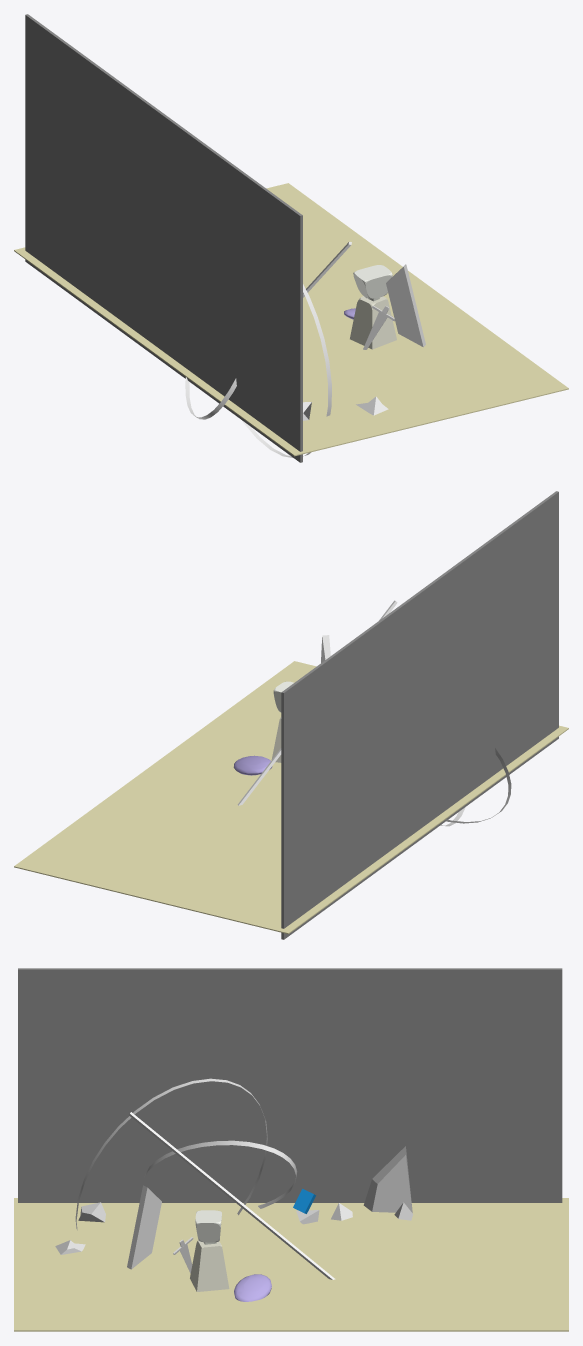
The picture shows the model from 3 angles, top to bottom: view 1: azimuth 30°, elevation 25°; view 2: azimuth 150°, elevation 25°; view 3: azimuth 270°, elevation 25°; orthographic projection.
Parts seen in each view (by area): view 1: 立方体, 立方体.003, Cube.003, Cube.001, Cube, 曲面柱.001; view 2: 立方体, 立方体.003, 融球; view 3: 立方体, 立方体.003, 立方体.008, Cube.003, Cube.001, 立方体.002, 曲面柱.001, 曲面柱, 融球, Cube.
Part boxes in pixels (x1,y1,x2,y2): 立方体: (25,14,302,462); 立方体.003: (14,183,568,456); Cube.003: (386,264,425,347); Cube.001: (350,296,396,349); Cube: (353,265,392,299); 曲面柱.001: (242,284,331,457); 立方体: (281,491,558,939); 立方体.003: (14,661,568,934); 融球: (233,755,272,775); 立方体: (18,968,562,1202); 立方体.003: (14,1198,568,1331); 立方体.008: (363,1146,412,1212); Cube.003: (127,1185,161,1269); Cube.001: (190,1240,229,1291); 立方体.002: (129,1112,335,1279); 曲面柱.001: (75,1078,267,1230); 曲面柱: (144,1140,297,1208); 融球: (234,1274,271,1301); Cube: (195,1210,221,1242).
Size of the model in its own units: 1380 by 1327 by 2306.
